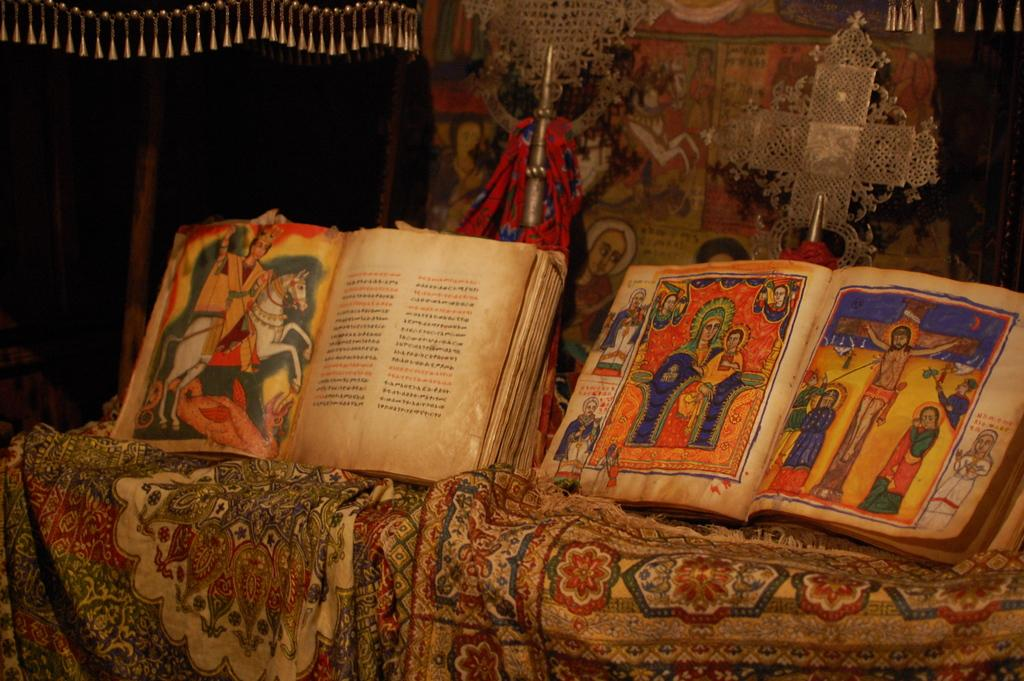Book: (532, 267, 1023, 563), (106, 220, 570, 492)
